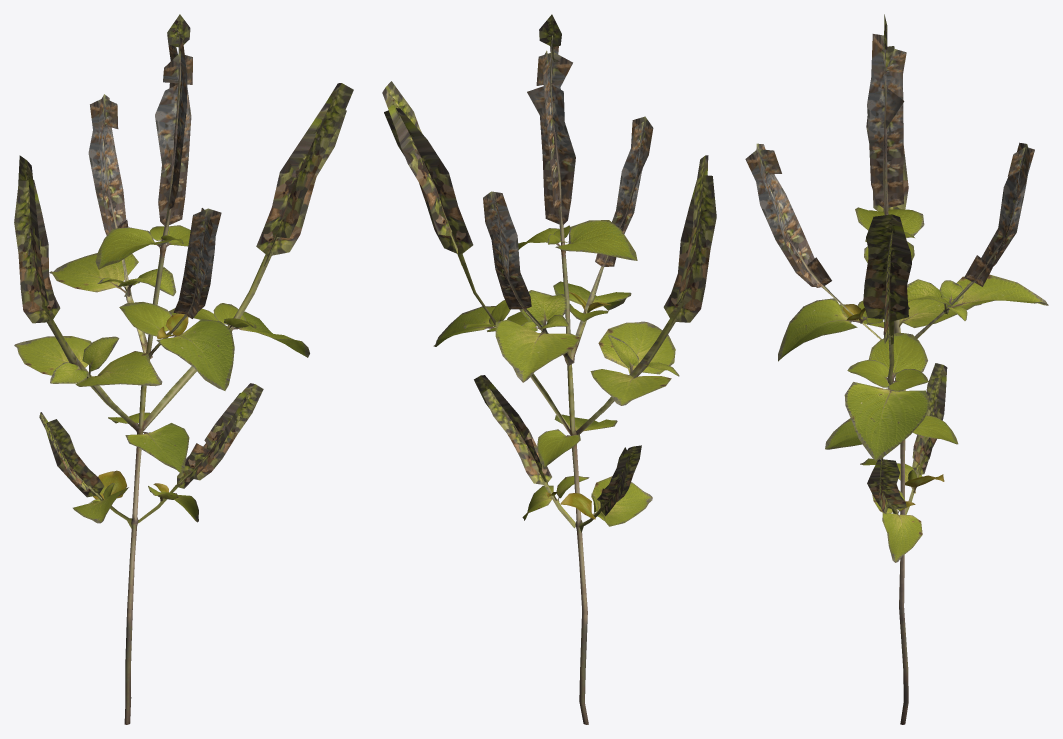
File: shrub.glb
The picture shows the model from 3 angles, left to right: view 1: azimuth 30°, elevation 25°; view 2: azimuth 150°, elevation 25°; view 3: azimuth 270°, elevation 25°; orthographic projection. The views are drawn at different scales.
Visible parts, largest first — view 1: shrub_03_a; view 2: shrub_03_a; view 3: shrub_03_a.
Part boxes in pixels (x1,y1,x2,y2): shrub_03_a: [14, 14, 353, 724]; shrub_03_a: [382, 14, 716, 724]; shrub_03_a: [745, 14, 1048, 724].
Bounding box in the file's own units: 0.2006 × 0.4028 × 0.1512.
1 material, 1 textured.
